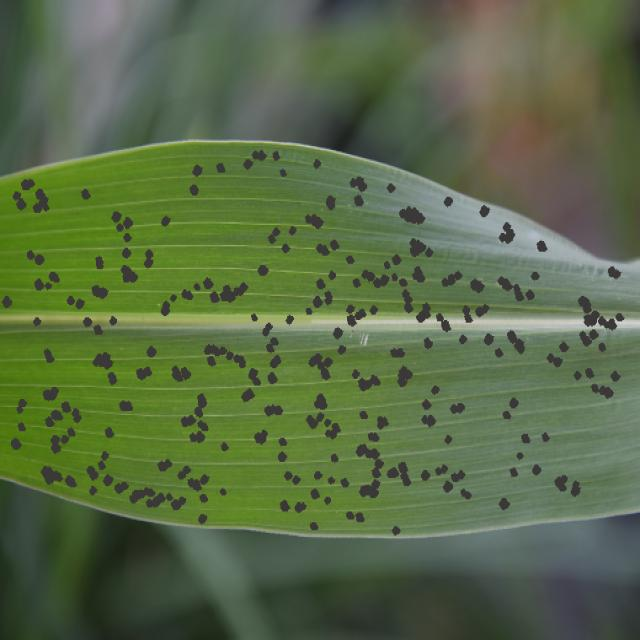Tar_Spot: (1, 139, 636, 538)
